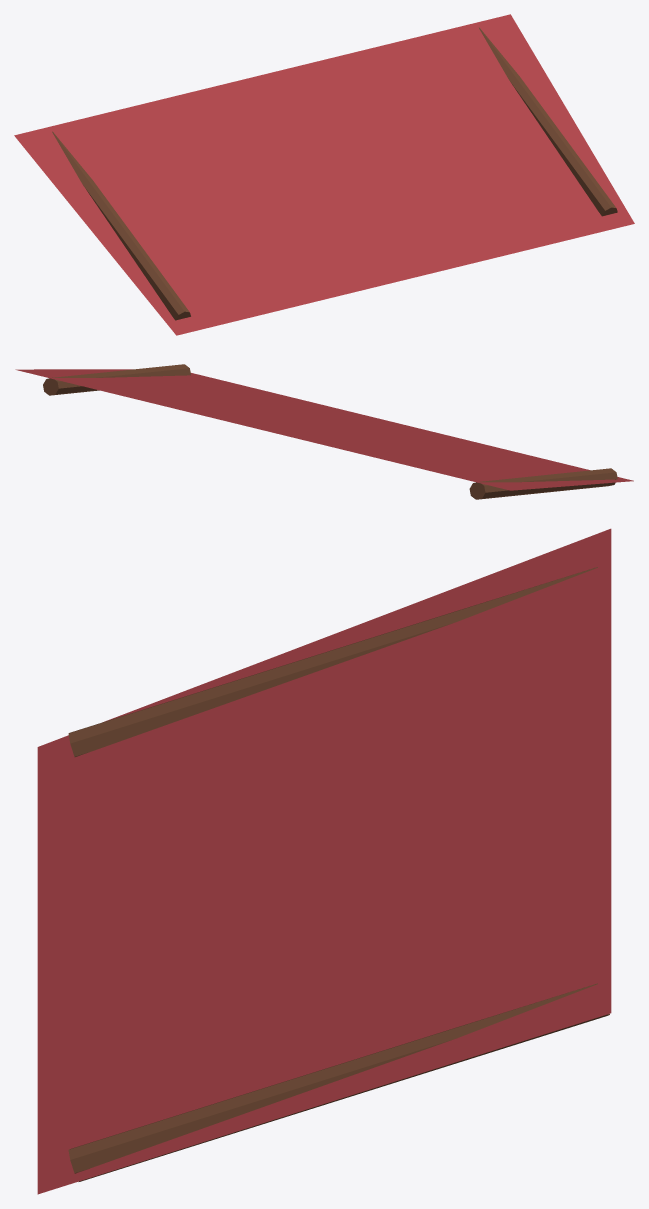
Rendered from wk_facade_awning_v01.glb.
3 views of the same model, one above another, from view 1: azimuth 30°, elevation 25°; view 2: azimuth 150°, elevation 25°; view 3: azimuth 270°, elevation 25° (orthographic). The views are drawn at different scales.
Parts seen in each view (by area): view 1: GEO_Awning, GEO_AwningBrace-1, GEO_AwningBrace+1; view 2: GEO_Awning, GEO_AwningBrace-1, GEO_AwningBrace+1; view 3: GEO_Awning, GEO_AwningBrace+1, GEO_AwningBrace-1.
Part boxes in pixels (x1,y1,x2,y2): GEO_Awning: (14, 14, 634, 335); GEO_AwningBrace-1: (52, 131, 190, 320); GEO_AwningBrace+1: (479, 27, 617, 216); GEO_Awning: (15, 369, 633, 490); GEO_AwningBrace-1: (469, 468, 617, 499); GEO_AwningBrace+1: (43, 364, 190, 395); GEO_Awning: (37, 528, 611, 1194); GEO_AwningBrace+1: (68, 983, 609, 1181); GEO_AwningBrace-1: (68, 567, 597, 756).
Size of the model in its own units: 1.56 by 0.3036 by 0.78.
